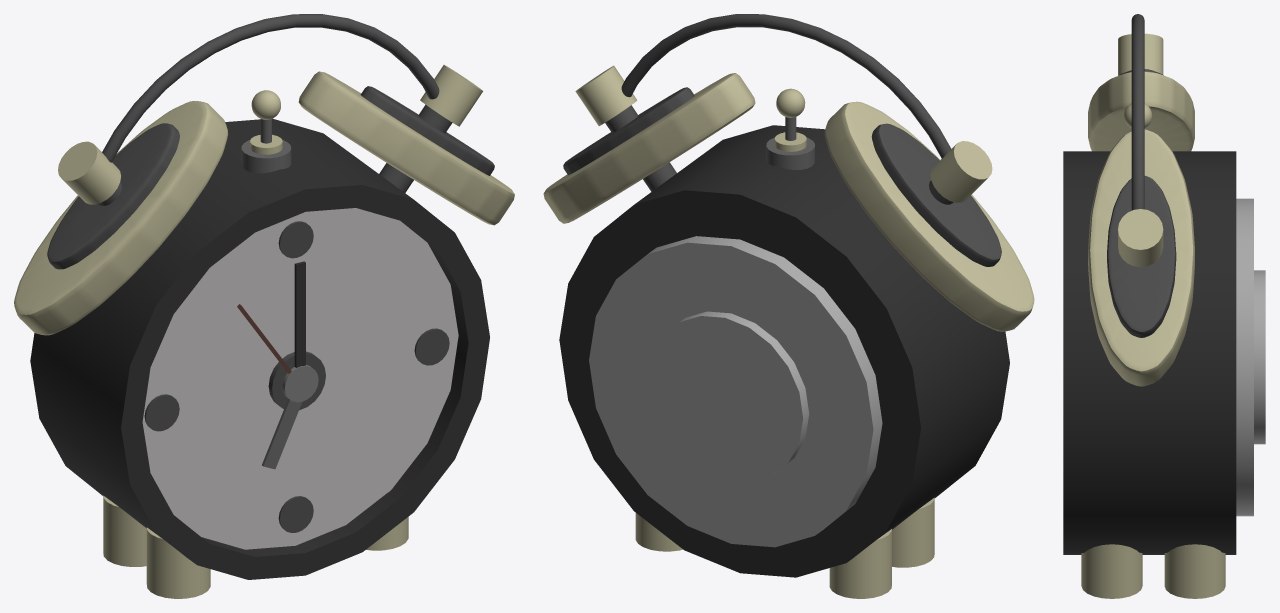
File: colored clock1.fbx
3 views of the same model, side by side, from view 1: azimuth 30°, elevation 25°; view 2: azimuth 150°, elevation 25°; view 3: azimuth 270°, elevation 25° (orthographic). The views are drawn at different scales.
Visible parts, largest first — view 1: pCylinder2, pCylinder1, polySurface1, pCylinder29, pCylinder31, pCylinder27, pCylinder30, pCylinder28, pCylinder3, pCube1, pCylinder24, pCube2 (+3 smaller); view 2: pCylinder1, pCylinder13, polySurface1, pCylinder14, pCylinder29, pCylinder31, pCylinder27, pCylinder30, pCylinder24, polySurface3, pSphere1; view 3: pCylinder1, polySurface1, pCylinder29, pCylinder31, pCylinder13, pCylinder30, pCylinder27, pCylinder14, pSphere1.
Part boxes in pixels (box(x1,y1,x2,y2)): pCylinder2: box(142, 208, 458, 549); pCylinder1: box(30, 118, 489, 579); polySurface1: box(14, 71, 514, 335); pCylinder29: box(47, 86, 494, 269); pCylinder31: box(103, 491, 408, 598); pCylinder27: box(102, 14, 439, 162); pCylinder30: box(58, 65, 482, 204); pCylinder28: box(144, 221, 449, 532); pCylinder3: box(268, 351, 325, 410); pCube1: box(294, 261, 305, 367); pCylinder24: box(241, 140, 291, 173); pCube2: box(262, 398, 302, 469); pCylinder1: box(559, 125, 1009, 577); pCylinder13: box(589, 236, 882, 547); polySurface1: box(543, 73, 1034, 331); pCylinder14: box(647, 311, 809, 482); pCylinder29: box(563, 87, 1001, 266); pCylinder31: box(635, 497, 934, 598); pCylinder27: box(621, 14, 951, 158); pCylinder30: box(575, 65, 992, 202); pCylinder24: box(766, 137, 815, 169); polySurface3: box(605, 105, 676, 191); pSphere1: box(776, 88, 805, 117); pCylinder1: box(1063, 151, 1236, 554); polySurface1: box(1088, 71, 1194, 386); pCylinder29: box(1107, 69, 1176, 337); pCylinder31: box(1081, 544, 1225, 598); pCylinder13: box(1236, 198, 1253, 516); pCylinder30: box(1118, 33, 1163, 267); pCylinder27: box(1131, 14, 1144, 210); pCylinder14: box(1254, 270, 1265, 444); pSphere1: box(1124, 103, 1152, 128).
Size of the model in its own units: 0.2319 by 0.2387 by 0.0864.
